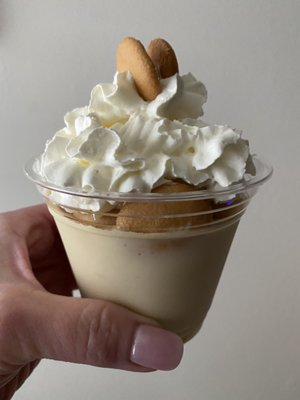pizza: (30, 137, 273, 366)
